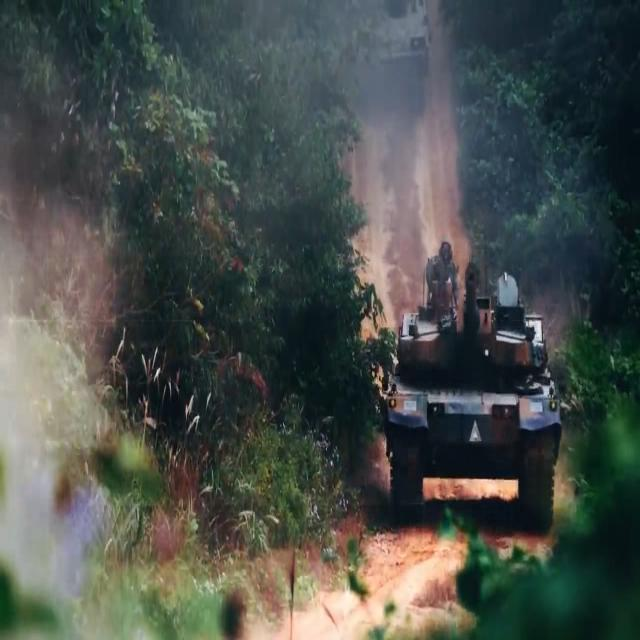korea tank: (379, 245, 561, 535)
